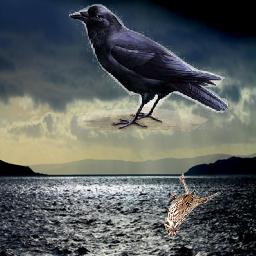Crow: (70, 4, 229, 130)
Sparrow: (164, 174, 221, 237)
